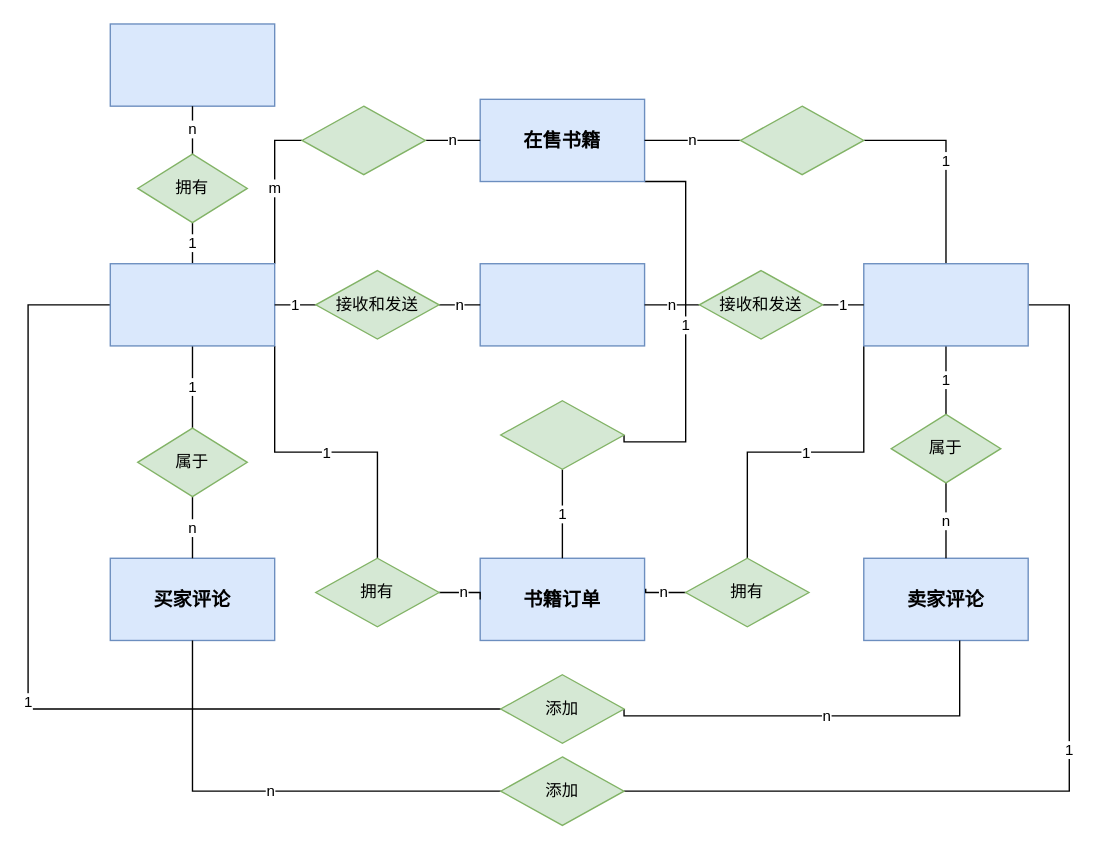
Some shapes in this 1096 by 849 pixel diagram are drawn without their labels. The shapes that lost their labels are listed below. From the top down, each one's centre as x and y in pixels, then its label:
the point at 192,64: 购物车书籍
the point at 363,140: 查看
the point at 801,140: 编辑
the point at 192,304: 买家
the point at 562,304: 消息
the point at 945,304: 商家
the point at 561,434: 对应
